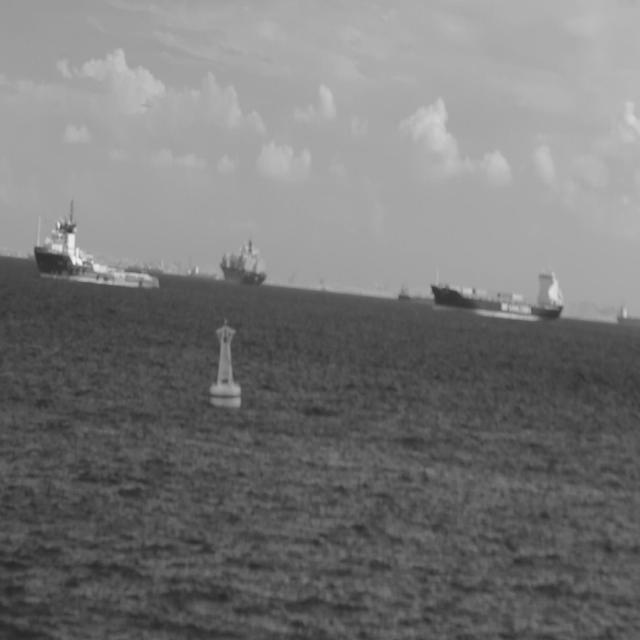buoy: (208, 316, 242, 411)
ship: (33, 198, 161, 292), (430, 261, 565, 324), (219, 238, 268, 288), (397, 282, 427, 306), (122, 260, 166, 276), (185, 262, 218, 282), (139, 264, 152, 278)
